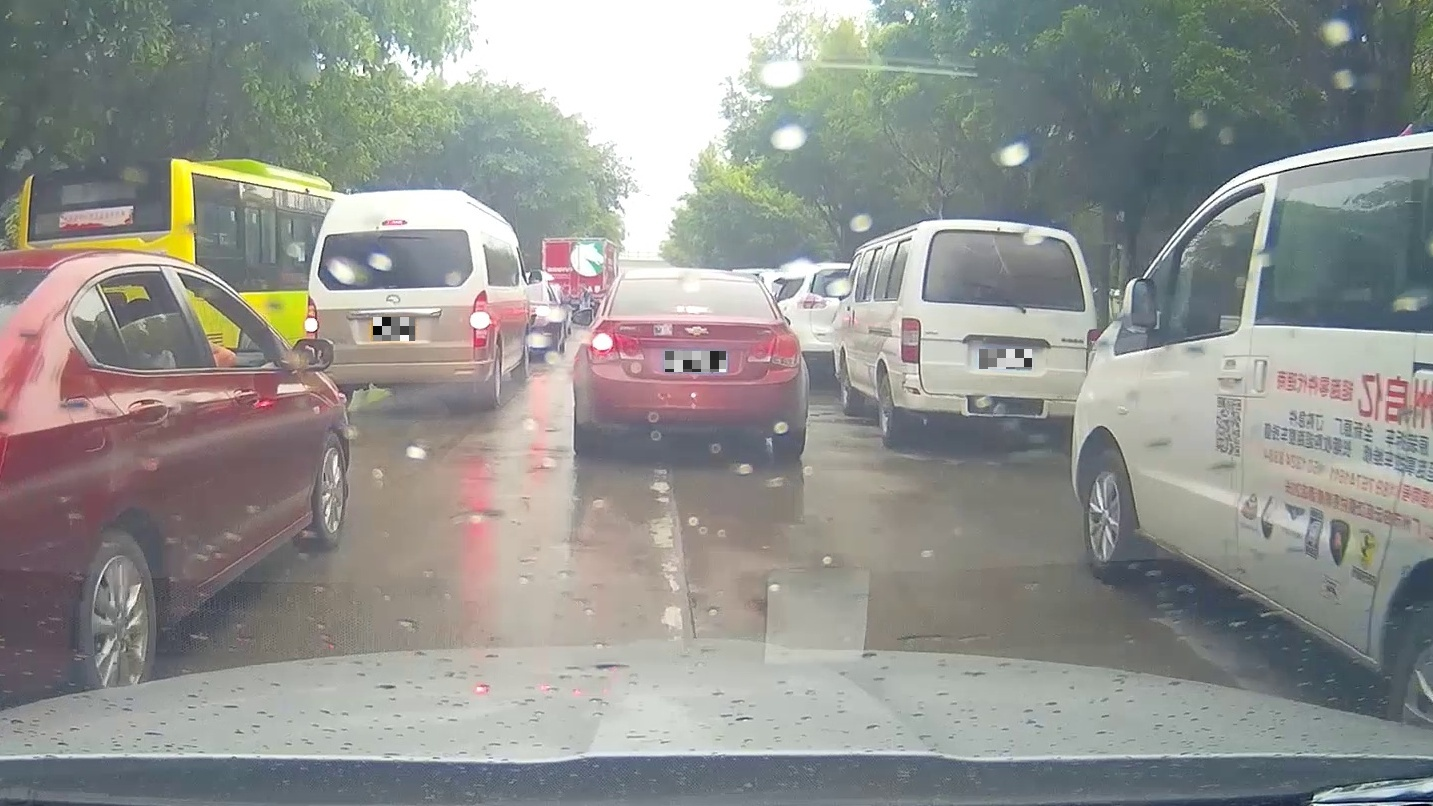L_light: (585, 328, 645, 365), (304, 295, 317, 342)
R_light: (746, 331, 802, 367), (469, 289, 490, 347)
T_light: (676, 305, 710, 314), (382, 219, 407, 226)
day-brake: (580, 269, 806, 460), (303, 191, 494, 415)
plate_1: (373, 317, 415, 341)
plate_2: (665, 351, 726, 372)
plate_3: (979, 349, 1032, 369)
